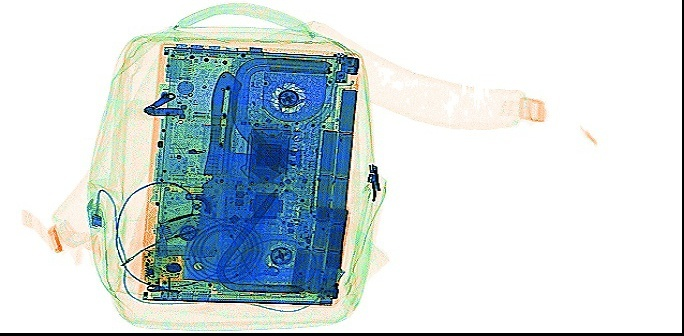knife: (179, 66, 278, 286)
powerbank: (288, 217, 346, 300)
